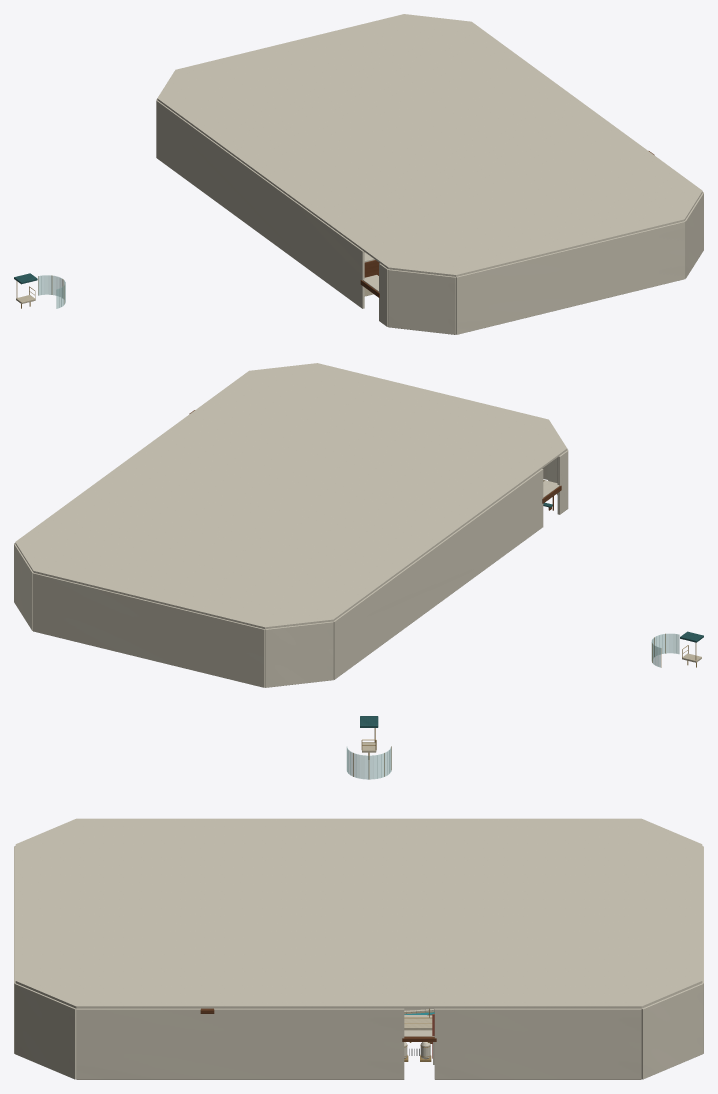
File: AquaticCompletion_r016.glb
3 views of the same model, one above another, from view 1: azimuth 30°, elevation 25°; view 2: azimuth 150°, elevation 25°; view 3: azimuth 270°, elevation 25° (orthographic). The views are drawn at different scales.
Visible parts, largest first — view 1: AQ6_BATCH_roof_asset_ASTRAEA_ivory_enamel, AQ6_BATCH_architecture_ASTRAEA_ivory_enamel, AQ6_BATCH_architecture_AQD_glass; view 2: AQ6_BATCH_roof_asset_ASTRAEA_ivory_enamel, AQ6_BATCH_architecture_ASTRAEA_ivory_enamel, AQ6_BATCH_architecture_AQD_glass; view 3: AQ6_BATCH_roof_asset_ASTRAEA_ivory_enamel, AQ6_BATCH_architecture_ASTRAEA_ivory_enamel, AQ6_BATCH_architecture_AQD_glass.
Boxes of the visible parts, box(x1,y1,x2,y2) form: AQ6_BATCH_roof_asset_ASTRAEA_ivory_enamel: box(157, 14, 702, 276); AQ6_BATCH_architecture_ASTRAEA_ivory_enamel: box(156, 98, 703, 334); AQ6_BATCH_architecture_AQD_glass: box(38, 275, 65, 308); AQ6_BATCH_roof_asset_ASTRAEA_ivory_enamel: box(15, 363, 567, 629); AQ6_BATCH_architecture_ASTRAEA_ivory_enamel: box(14, 449, 568, 687); AQ6_BATCH_architecture_AQD_glass: box(651, 633, 679, 667); AQ6_BATCH_roof_asset_ASTRAEA_ivory_enamel: box(15, 818, 702, 1008); AQ6_BATCH_architecture_ASTRAEA_ivory_enamel: box(14, 846, 703, 1079); AQ6_BATCH_architecture_AQD_glass: box(346, 747, 391, 779).
Bounding box in the file's own units: 79.52 × 9.15 × 68.32.
19 materials, 16 textured.
